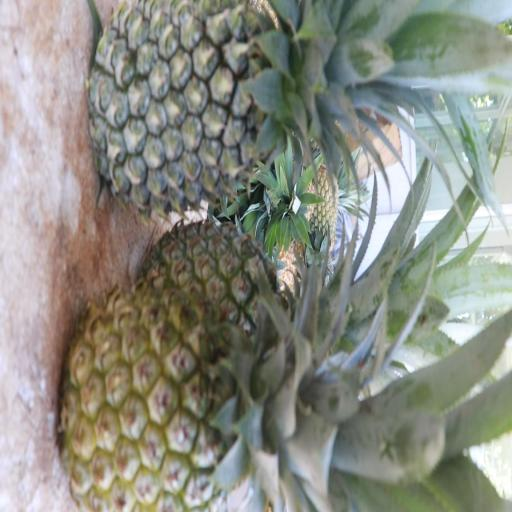------------------------------: (53, 281, 385, 512), (137, 208, 362, 368)
